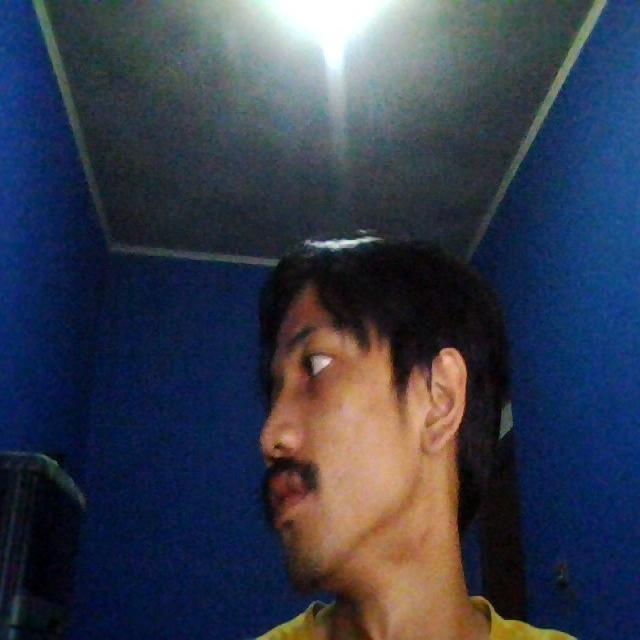Melihat kekanan: (234, 230, 525, 602)
